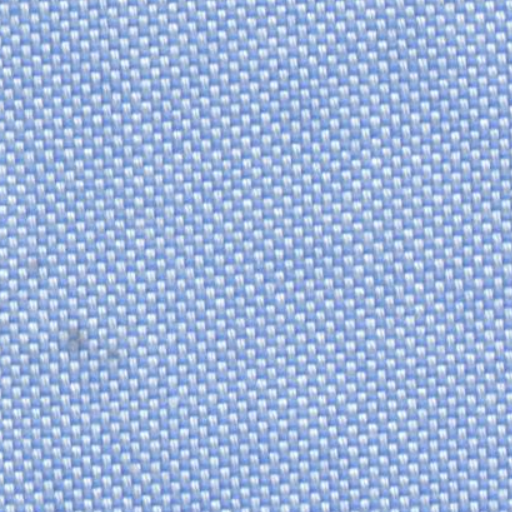WuZi: (48, 303, 144, 376)
